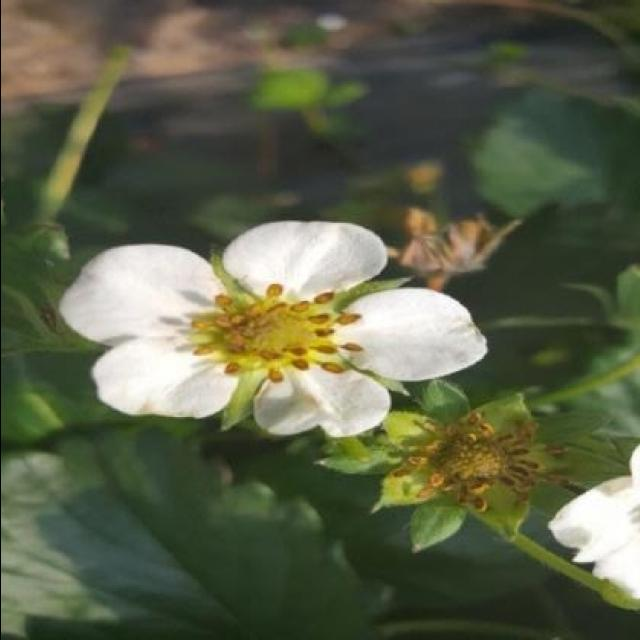Blossom Blight: (388, 409, 572, 520), (184, 279, 365, 388)
